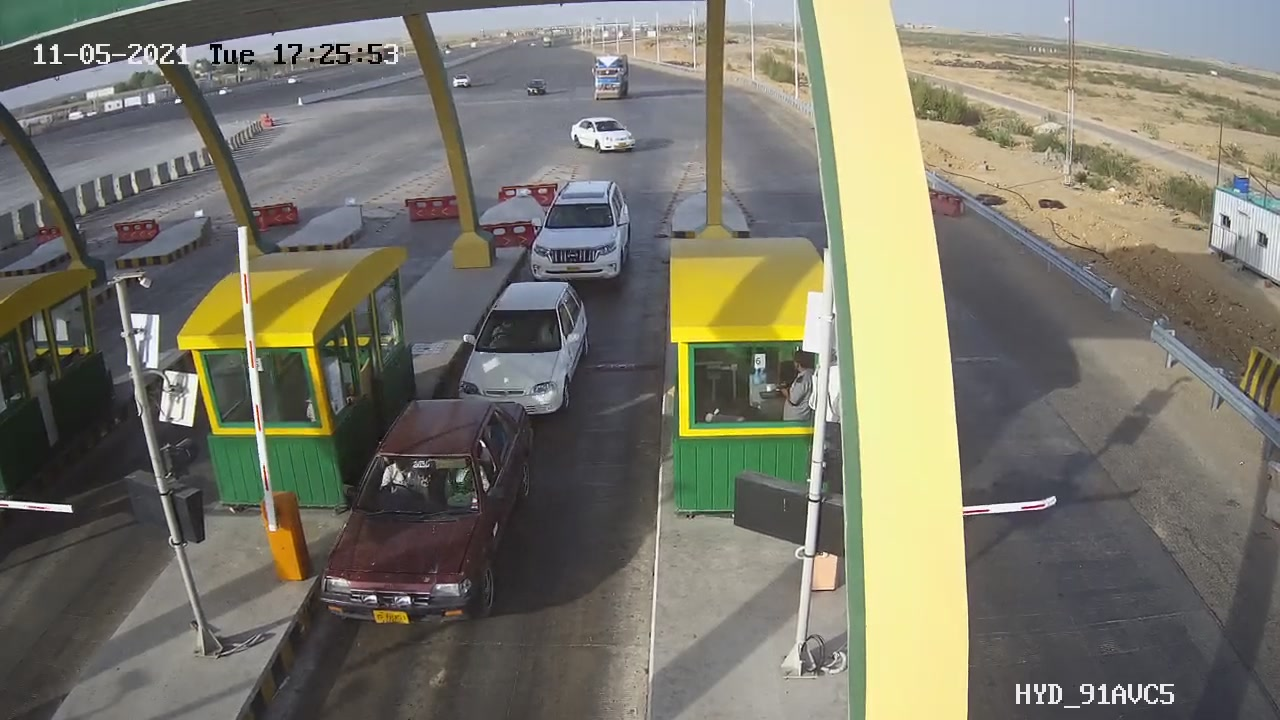F1: (300, 382, 552, 643), (446, 268, 599, 434), (505, 170, 651, 298)
